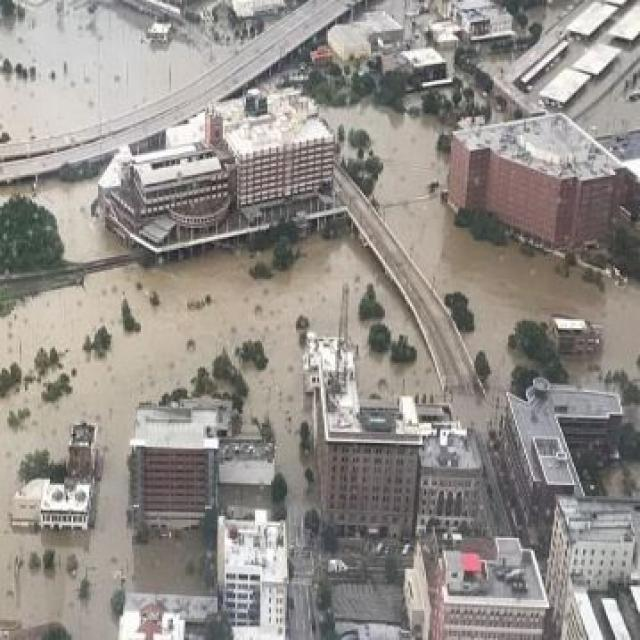flood: (0, 234, 441, 640), (321, 105, 640, 393), (0, 0, 232, 142), (31, 177, 129, 262), (0, 184, 30, 200)
house: (100, 109, 340, 263), (446, 118, 628, 258), (306, 340, 420, 523), (501, 379, 631, 500), (423, 530, 558, 636), (218, 514, 294, 631), (549, 500, 639, 586), (16, 461, 101, 537), (130, 400, 234, 462), (580, 588, 635, 640), (459, 0, 514, 50), (398, 48, 450, 94), (328, 26, 374, 64)
